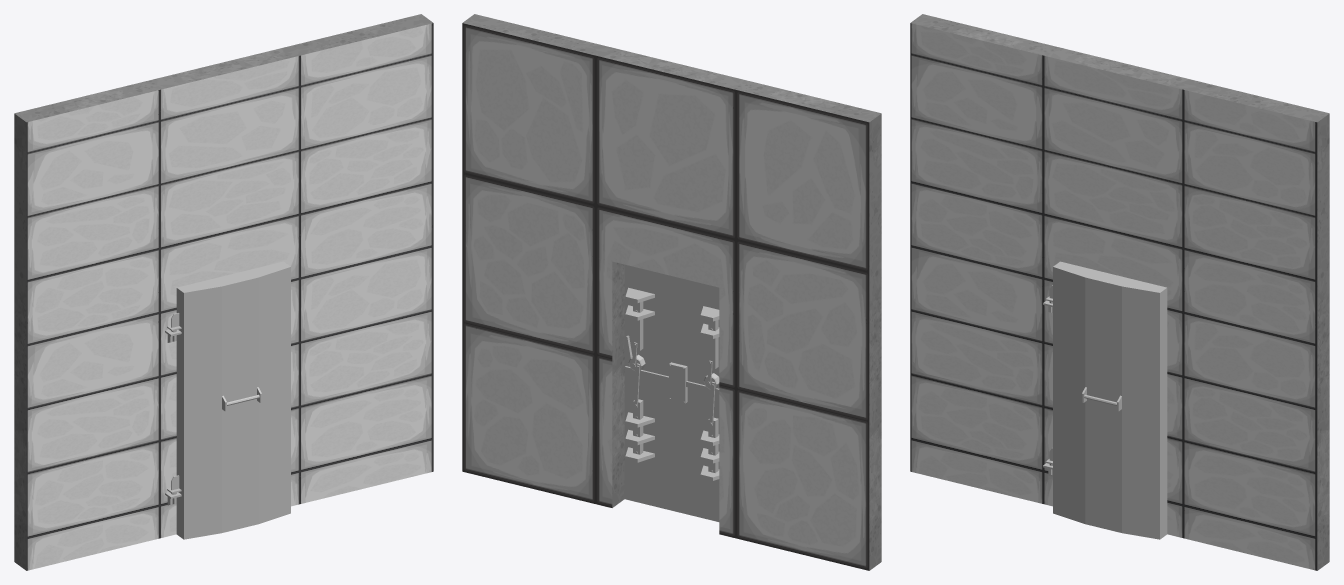
File: SM_Inner_Heavy_Door_A.fbx
3 views of the same model, side by side, from view 1: azimuth 30°, elevation 25°; view 2: azimuth 150°, elevation 25°; view 3: azimuth 330°, elevation 25° (orthographic).
Visible parts, largest first — view 1: SM_Inner_Heavy_Door_A, SM_Inner_Heavy_DoorA; view 2: SM_Inner_Heavy_Door_A, SM_Inner_Heavy_DoorA; view 3: SM_Inner_Heavy_Door_A, SM_Inner_Heavy_DoorA.
Part boxes in pixels (bbox=[...]): SM_Inner_Heavy_Door_A: bbox=[14, 14, 433, 570]; SM_Inner_Heavy_DoorA: bbox=[167, 261, 290, 539]; SM_Inner_Heavy_Door_A: bbox=[462, 14, 881, 570]; SM_Inner_Heavy_DoorA: bbox=[624, 264, 719, 521]; SM_Inner_Heavy_Door_A: bbox=[910, 14, 1329, 570]; SM_Inner_Heavy_DoorA: bbox=[1045, 261, 1167, 539].
Bounding box in the file's own units: 380 × 400 × 41.86.
